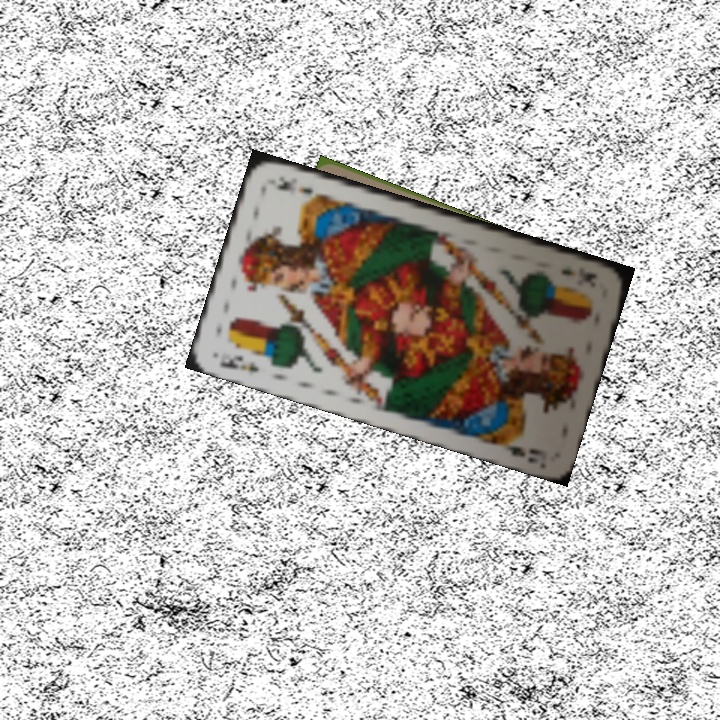EK: (215, 351, 262, 375), (557, 262, 600, 284)
